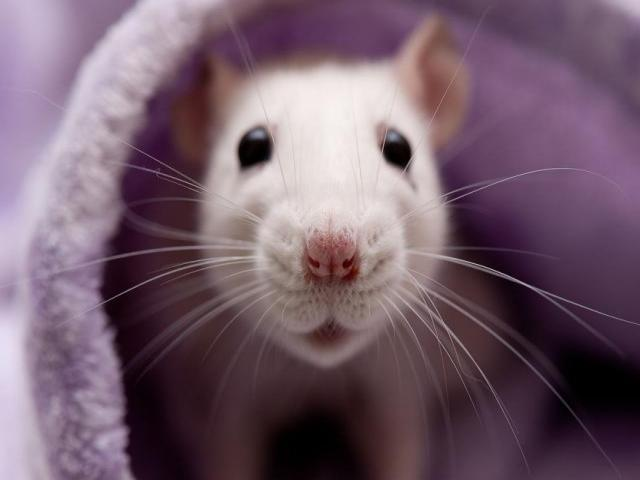Tikus: (166, 13, 486, 475)
